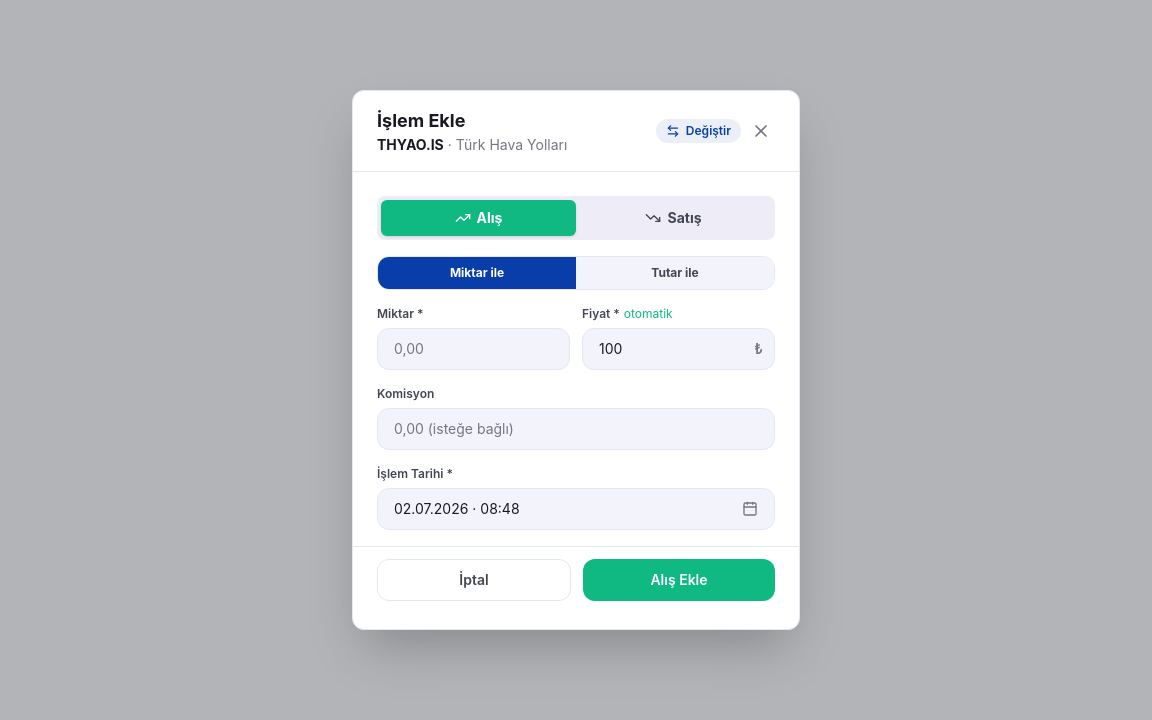
Test: AddTransactionModal — form adımı (initialInstrument ile) › Satış sekmesine tıklanınca submit butonu "Satış Ekle" olur
The width and height of the screenshot is (1152, 720).
Expected: the button "Alış Ekle" is shown, x1=583 y1=559 x2=775 y2=601
What coordinates should you click on to do the following:
click the button "Satış"
I would click on:
 (674, 218)
Its box is x1=576 y1=200 x2=771 y2=236.
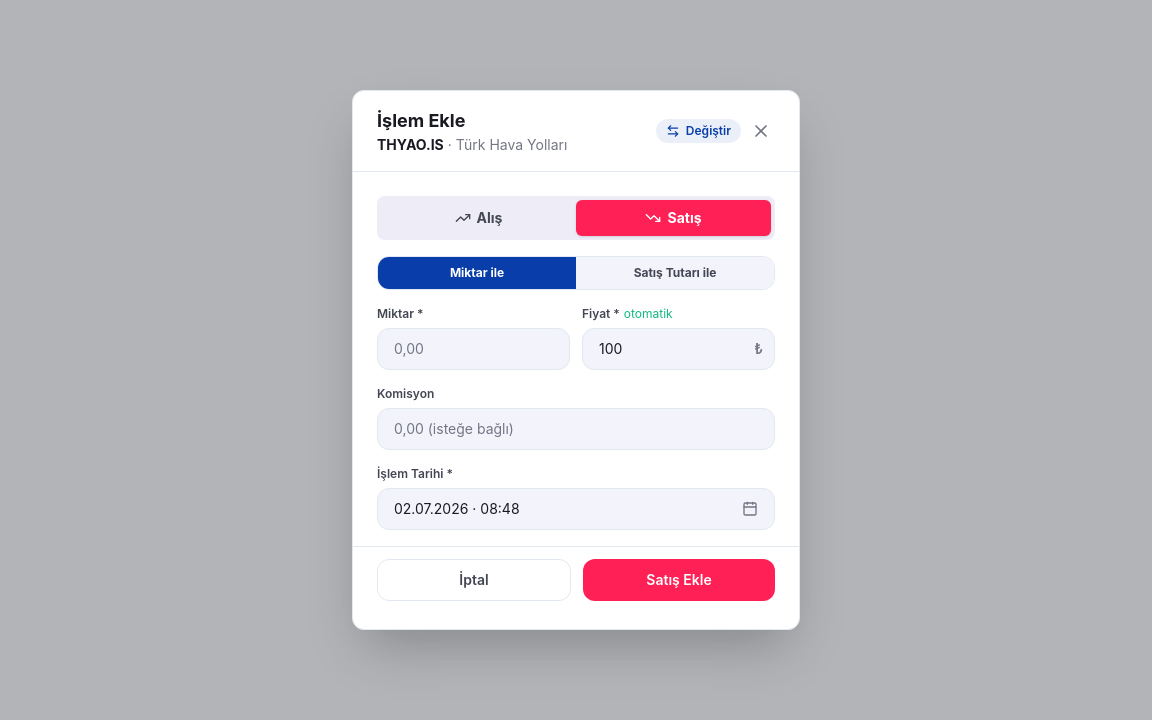
Result: the button "Satış Ekle" is shown at x1=583 y1=559 x2=775 y2=601
Result: the button "Alış Ekle" is gone
